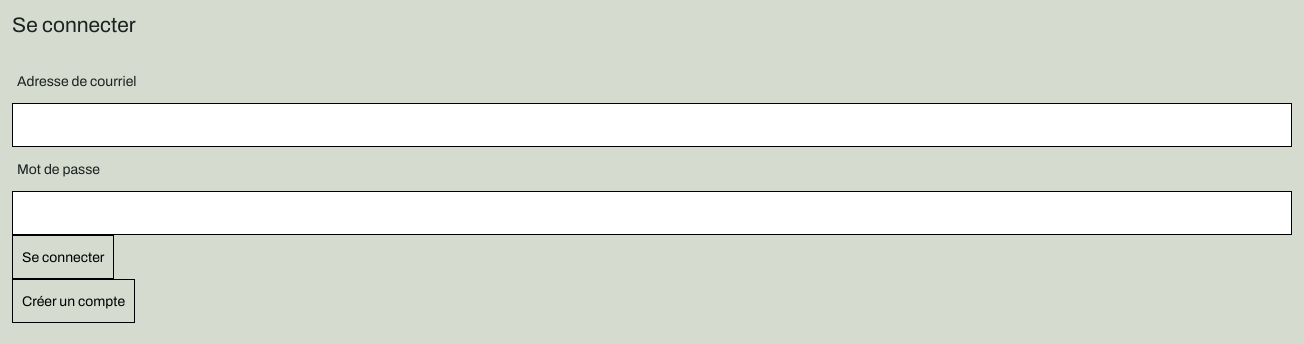
Scenario: tout se fait au clavier (FR-058) › bascule vers l’inscription au clavier
Click the button "Créer un compte" at (74, 301), box left=12, top=279, right=135, bottom=323
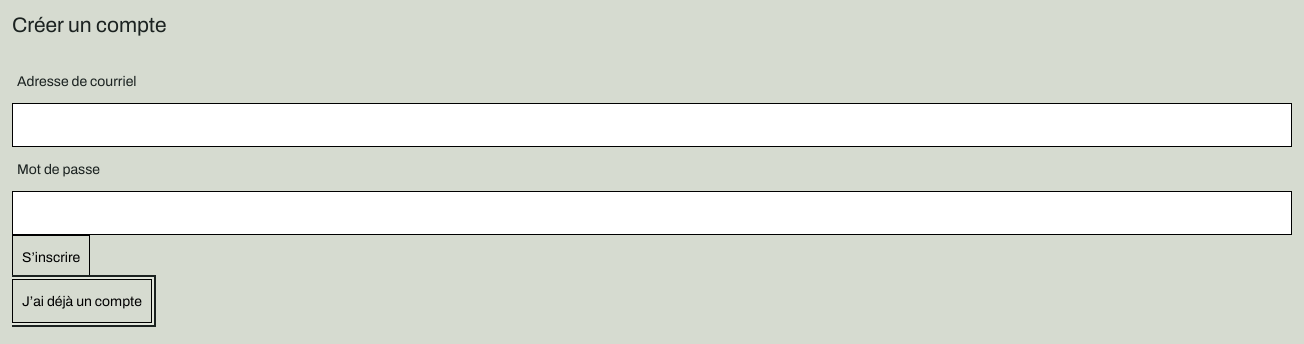
Check: the button "S’inscrire" is shown, box left=12, top=235, right=90, bottom=279
